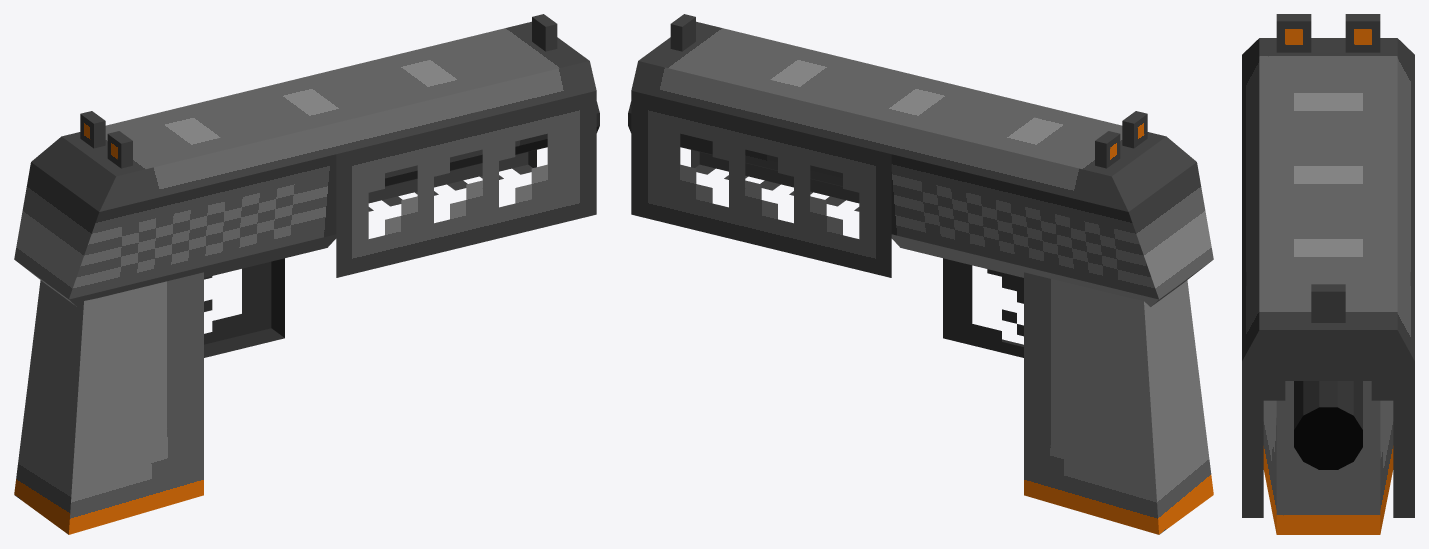
Rendered from emptypistol.obj.
The picture shows the model from 3 angles, left to right: view 1: azimuth 30°, elevation 25°; view 2: azimuth 150°, elevation 25°; view 3: azimuth 270°, elevation 25°; orthographic projection. The views are drawn at different scales.
Visible parts, largest first — view 1: cuboid, cylinder; view 2: cuboid, cylinder; view 3: cuboid, cylinder.
Part boxes in pixels (bbox=[...]): cuboid: bbox=[14, 14, 596, 534]; cylinder: bbox=[385, 101, 599, 186]; cuboid: bbox=[631, 14, 1213, 534]; cylinder: bbox=[628, 101, 842, 186]; cuboid: bbox=[1242, 14, 1414, 534]; cylinder: bbox=[1294, 381, 1362, 469].
Bounding box in the file's own units: 0.2875 × 0.1875 × 0.0625.
